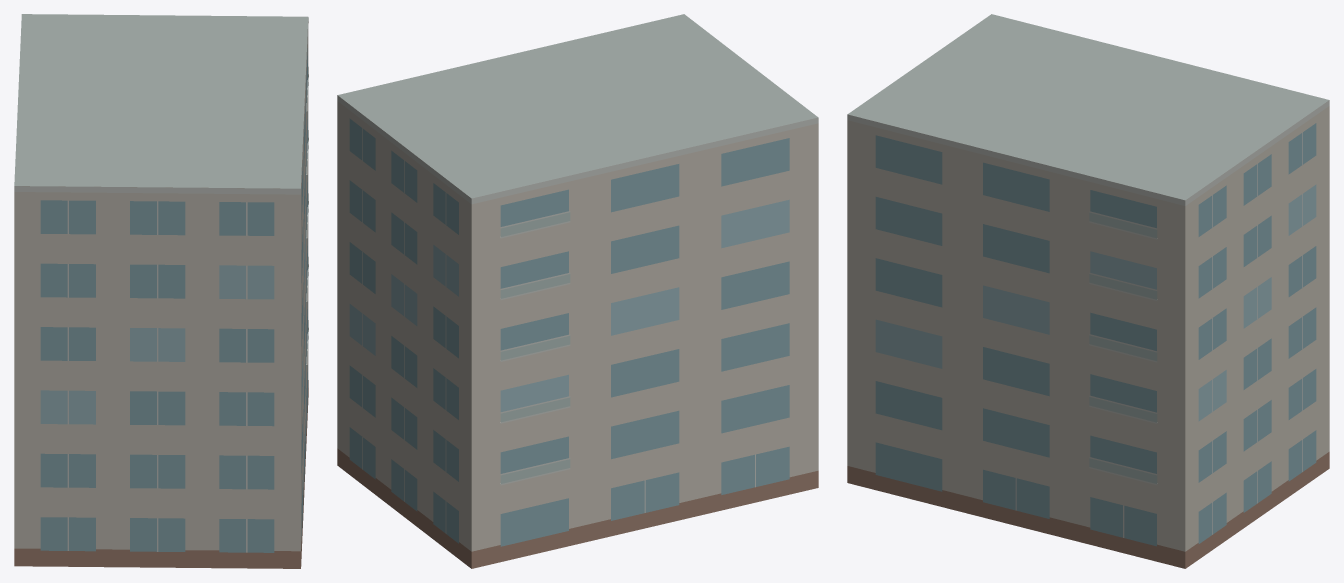
Rendered from survey-upis-32738015.glb.
The picture shows the model from 3 angles, left to right: view 1: azimuth 30°, elevation 25°; view 2: azimuth 150°, elevation 25°; view 3: azimuth 270°, elevation 25°; orthographic projection. The views are drawn at different scales.
Parts seen in each view (by area): view 1: survey-upis-32738015.tmp; view 2: survey-upis-32738015.tmp; view 3: survey-upis-32738015.tmp.
Part boxes in pixels (x1,y1,x2,y2): survey-upis-32738015.tmp: (14,14,308,568); survey-upis-32738015.tmp: (337,14,818,568); survey-upis-32738015.tmp: (847,14,1329,568).
Size of the model in its own units: 16.84 by 15.52 by 18.41.
